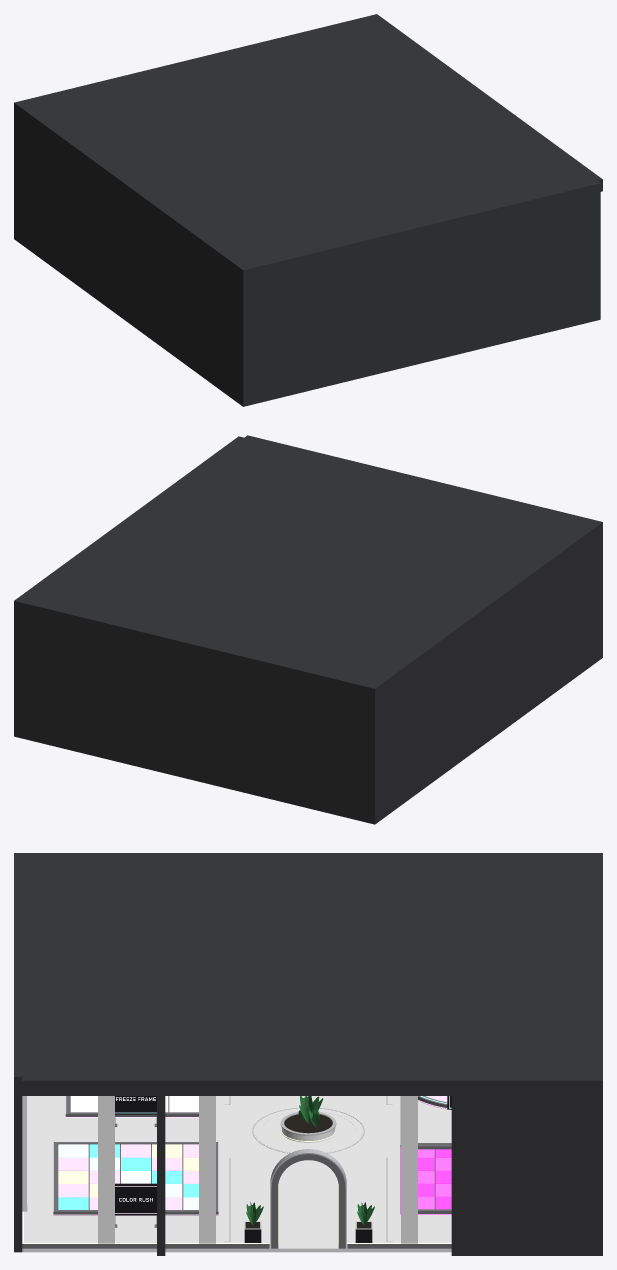
File: SMB_ArcadeHall.glb
3 views of the same model, one above another, from view 1: azimuth 30°, elevation 25°; view 2: azimuth 150°, elevation 25°; view 3: azimuth 270°, elevation 25° (orthographic). The views are drawn at different scales.
Parts seen in each view (by area): view 1: ARC_Walls_Shell__MAT_Charcoal; view 2: ARC_Walls_Shell__MAT_Charcoal; view 3: ARC_Walls_Shell__MAT_Charcoal, ARC_Floor__MAT_White_Marble, ARC_Wall_Finishes__MAT_Black_Marble, ARC_Floor__MAT_Black_Marble, ARC_Wall_Finishes__MAT_Graphite_Metal, ARC_Floor_Inlays__MAT_Black_Marble, ARC_Color_Rush_Platform__MAT_Graphite_Metal, ARC_Color_Rush_Platform__MAT_ARC_Tile_Cyan, ARC_Color_Rush_Platform__MAT_ARC_Tile_Pink, ARC_Color_Rush_Platform__MAT_ARC_Tile_Mint, ARC_Color_Rush_Sign__MAT_ARC_Gloss_Black, ARC_Color_Rush_Platform__MAT_ARC_Tile_Purple (+9 smaller).
Part boxes in pixels (x1,y1,x2,y2): ARC_Walls_Shell__MAT_Charcoal: (14,14,602,406); ARC_Walls_Shell__MAT_Charcoal: (14,435,602,824); ARC_Walls_Shell__MAT_Charcoal: (14,853,602,1255); ARC_Floor__MAT_White_Marble: (39,1096,451,1241); ARC_Wall_Finishes__MAT_Black_Marble: (22,1096,417,1243); ARC_Floor__MAT_Black_Marble: (22,1096,451,1252); ARC_Wall_Finishes__MAT_Graphite_Metal: (22,1154,451,1248); ARC_Floor_Inlays__MAT_Black_Marble: (224,1096,392,1248); ARC_Color_Rush_Platform__MAT_Graphite_Metal: (53,1142,218,1215); ARC_Color_Rush_Platform__MAT_ARC_Tile_Cyan: (58,1144,198,1209); ARC_Color_Rush_Platform__MAT_ARC_Tile_Pink: (58,1144,198,1209); ARC_Color_Rush_Platform__MAT_ARC_Tile_Mint: (58,1144,198,1209); ARC_Color_Rush_Sign__MAT_ARC_Gloss_Black: (115,1183,156,1215); ARC_Color_Rush_Platform__MAT_ARC_Tile_Purple: (58,1144,198,1209).
Bounding box in the file's own units: 64 × 23 × 70.
